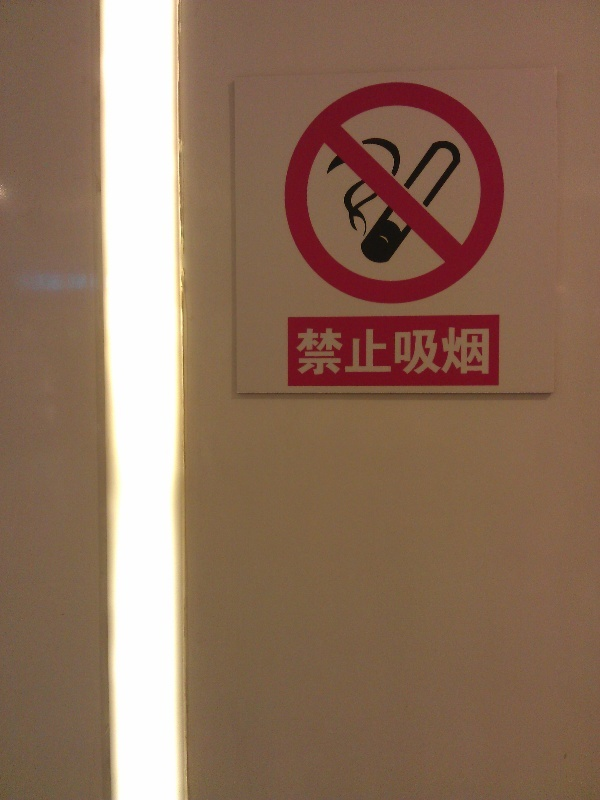text: (305, 326, 320, 377), (321, 326, 336, 377), (337, 326, 352, 377), (353, 326, 368, 377), (369, 326, 384, 377), (385, 326, 400, 377), (401, 326, 416, 377), (417, 326, 432, 377), (433, 326, 448, 377), (449, 326, 464, 377), (465, 326, 480, 377), (481, 326, 493, 377), (294, 326, 304, 377)
